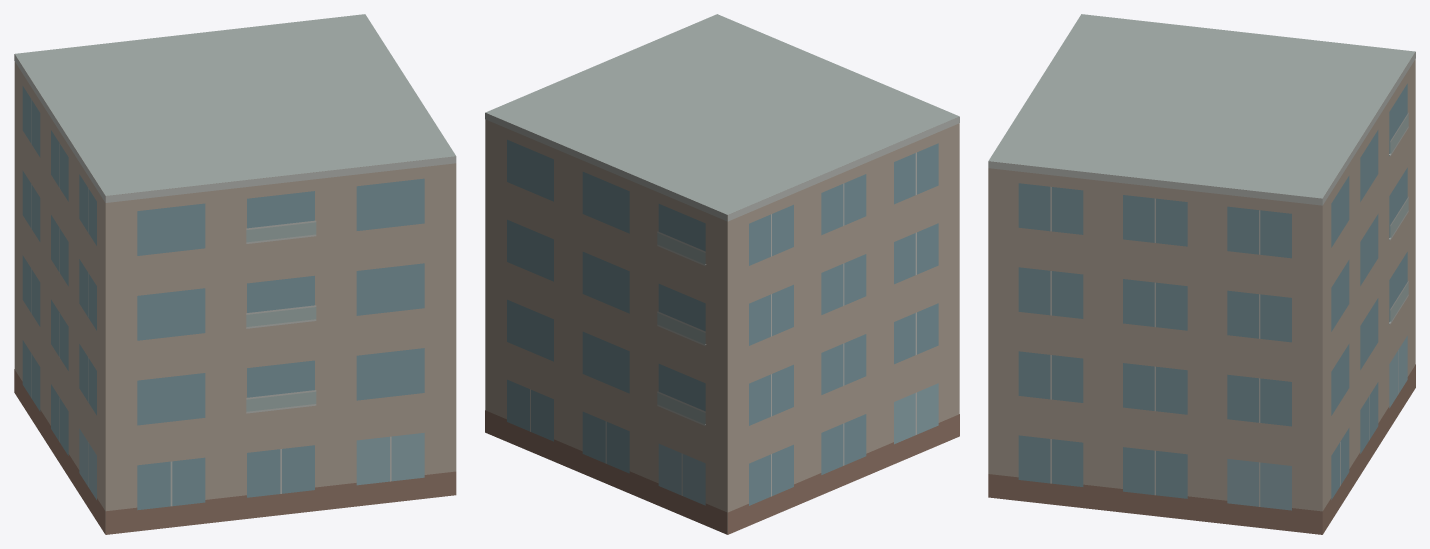
File: survey-upis-32745919.glb
3 views of the same model, side by side, from view 1: azimuth 30°, elevation 25°; view 2: azimuth 150°, elevation 25°; view 3: azimuth 270°, elevation 25° (orthographic). The views are drawn at different scales.
Visible parts, largest first — view 1: survey-upis-32745919.tmp; view 2: survey-upis-32745919.tmp; view 3: survey-upis-32745919.tmp.
Part boxes in pixels (left/top/right/bottom): survey-upis-32745919.tmp: left=14, top=14, right=456, bottom=534; survey-upis-32745919.tmp: left=485, top=14, right=959, bottom=534; survey-upis-32745919.tmp: left=988, top=14, right=1415, bottom=534.
Size of the model in its own units: 13.78 by 11.7 by 13.49.
